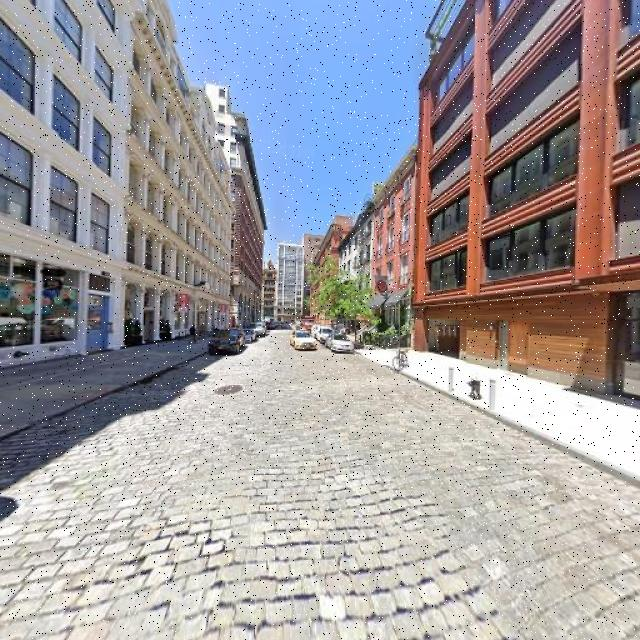Building: (417, 1, 640, 402), (1, 1, 119, 367), (124, 1, 230, 347), (374, 145, 412, 349)
